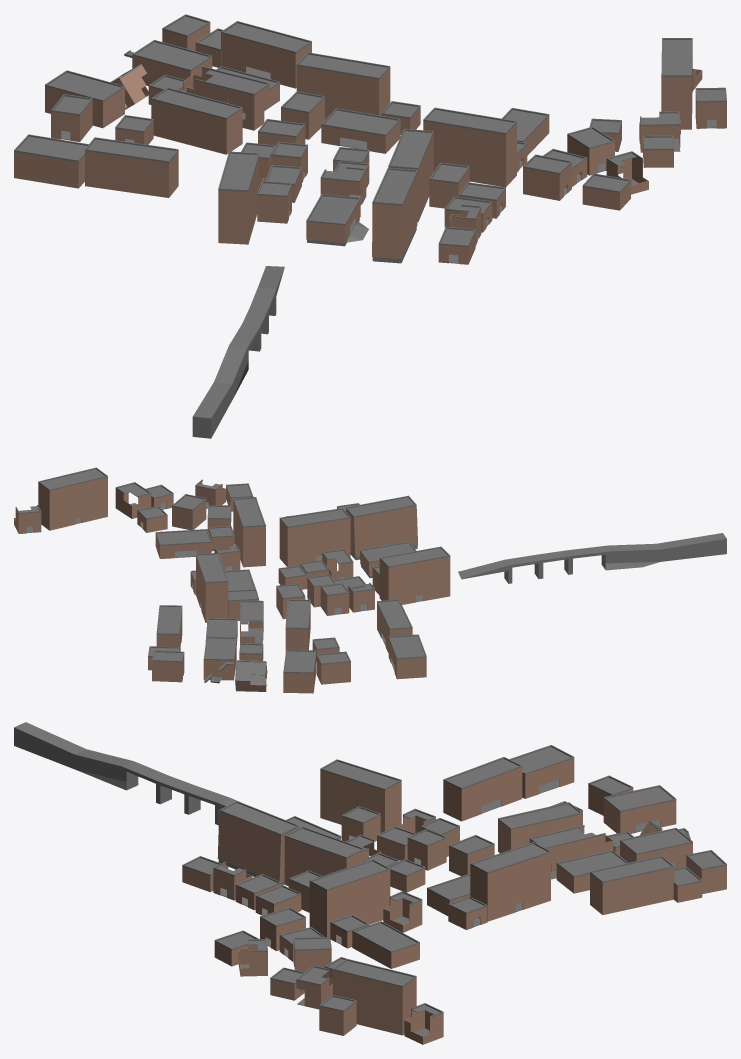
Rendered from WorldCenterBuildings.fbx.
3 renders of one model, top to bottom at view 1: azimuth 30°, elevation 25°; view 2: azimuth 150°, elevation 25°; view 3: azimuth 270°, elevation 25°, orthographic. The views are drawn at different scales.
Parts seen in each view (by area): view 1: Apartment.005, bridgge, fabriek#1.003, fabriek#1.001, Apartment.002, fabriek#1.002, Apartment.004, Apartment.001, Fabriek#2.003, kapotte fabriek.001, Fabriek#3.002, Fabriek#3.004 (+28 smaller); view 2: bridgge, Apartment.001, Apartment.006, Apartment.003, Apartment.004, Apartment.005, Apartment.002, Fabriek#2.003, Fabriek#3.003, Fabriek#2.002, Fabriek#2.001, fabriek#1.001 (+28 smaller); view 3: bridgge, Apartment.002, Apartment.004, Apartment.005, Apartment.006, Apartment.001, fabriek#1.002, fabriek#1.003, Apartment.003, Fabriek#2.002, fabriek#1.001, Fabriek#2.003 (+32 smaller).
Part boxes in pixels (box(x1,y1,x2,y2)): Apartment.005: box(423, 107, 516, 187); bridgge: box(192, 266, 284, 438); fabriek#1.003: box(85, 137, 178, 197); fabriek#1.001: box(151, 87, 242, 154); Apartment.002: box(296, 52, 390, 119); fabriek#1.002: box(221, 21, 311, 88); Apartment.004: box(372, 168, 417, 263); Apartment.001: box(218, 151, 259, 244); Fabriek#2.003: box(14, 134, 88, 188); kapotte fabriek.001: box(182, 66, 269, 130); Fabriek#3.002: box(321, 108, 400, 153); Fabriek#3.004: box(306, 194, 368, 246); bridgge: box(458, 533, 726, 583); Apartment.001: box(379, 546, 450, 604); Apartment.006: box(38, 467, 107, 530); Apartment.003: box(279, 508, 350, 566); Apartment.004: box(346, 495, 417, 560); Apartment.005: box(233, 497, 265, 567); Apartment.002: box(196, 553, 228, 622); Fabriek#2.003: box(388, 634, 426, 679); Fabriek#3.003: box(155, 529, 211, 558); Fabriek#2.002: box(283, 649, 316, 693); Fabriek#2.001: box(203, 636, 236, 680); fabriek#1.001: box(285, 599, 310, 652); bridgge: box(14, 722, 238, 825); Apartment.002: box(470, 842, 550, 921); Apartment.004: box(217, 801, 298, 885); Apartment.005: box(309, 859, 390, 936); Apartment.006: box(333, 959, 416, 1035); Apartment.001: box(320, 759, 401, 832); fabriek#1.002: box(590, 855, 674, 914); fabriek#1.003: box(443, 757, 522, 821); Apartment.003: box(284, 826, 364, 886); Fabriek#2.002: box(603, 785, 676, 833); fabriek#1.001: box(498, 802, 582, 853); Fabriek#2.003: box(509, 745, 574, 798).
Size of the model in its own units: 25943 by 2682 by 24169.
